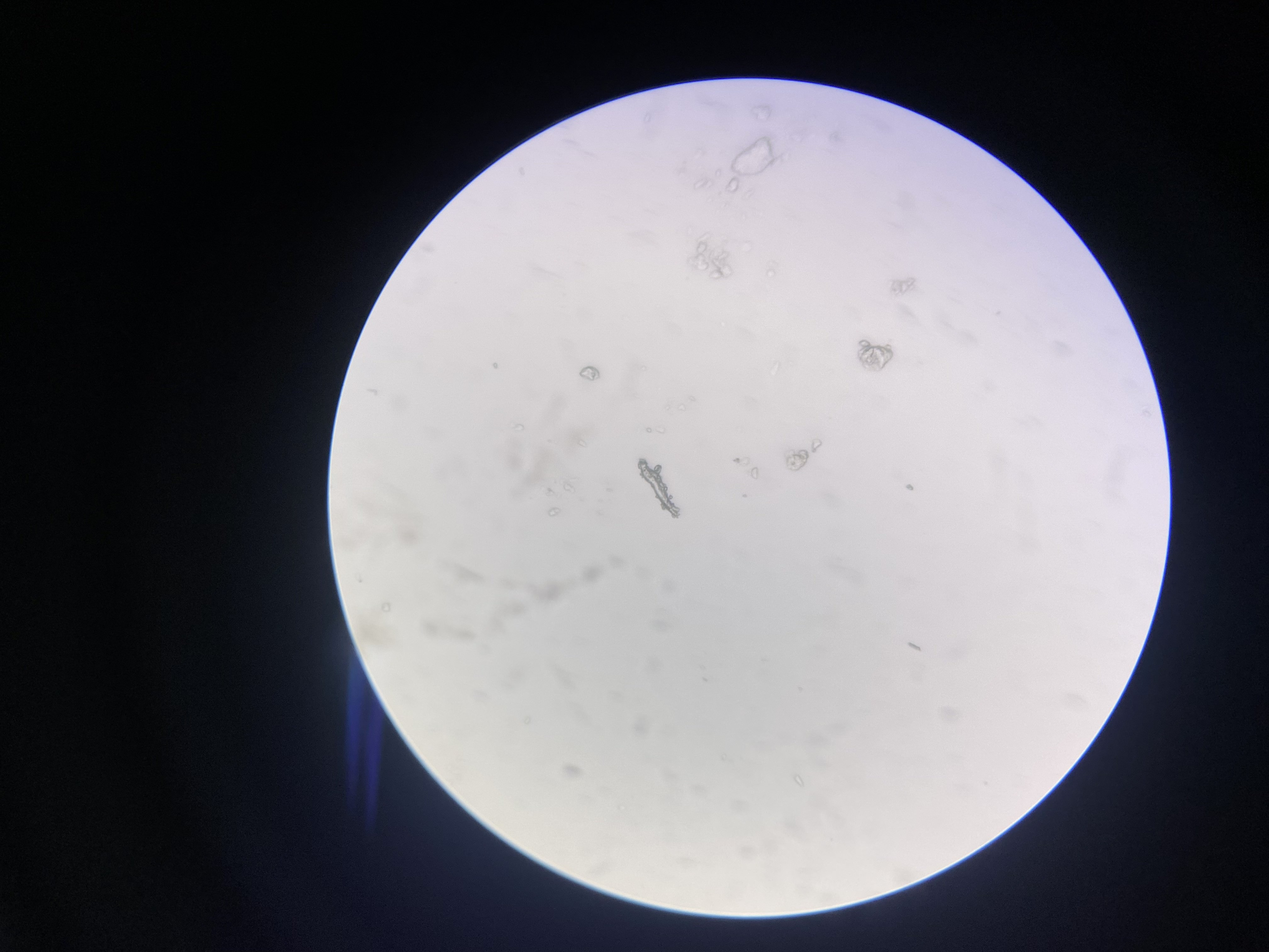microplastic: (635, 456, 680, 524), (688, 234, 747, 283), (732, 136, 781, 179), (857, 341, 897, 373), (888, 274, 923, 298), (786, 452, 811, 473), (904, 639, 926, 658), (578, 363, 601, 379), (747, 467, 767, 480), (899, 481, 917, 492), (811, 436, 821, 451)
